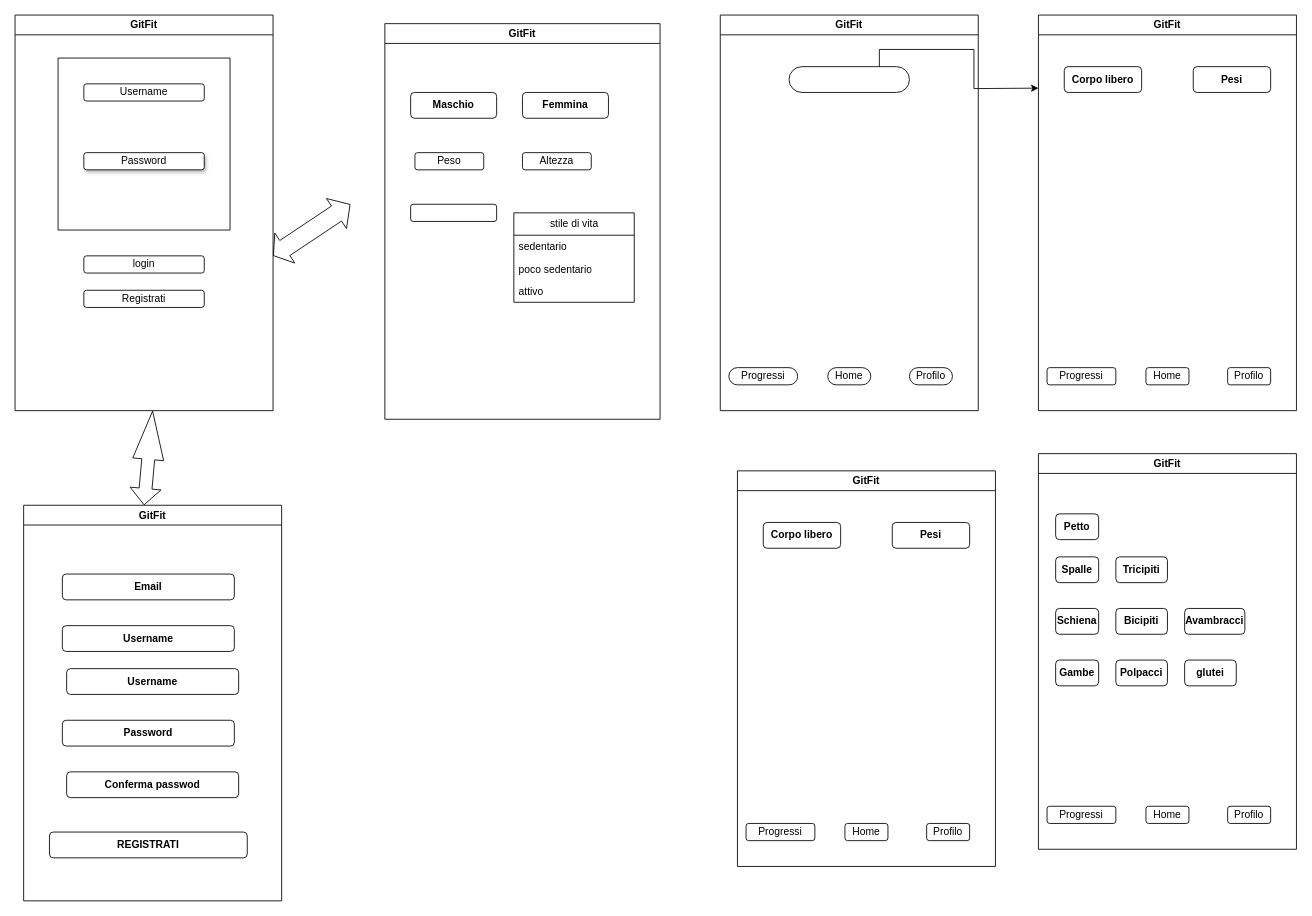
Some shapes in this 1312 by 916 pixel diagram are drawn without their labels. The shapes that lost their labels are listed below. From the top down, each one's centre as x and y in pixels, then its label:
At (x=848, y=79): "Alleniamoci".
At (x=453, y=212): "Data di nascita".
